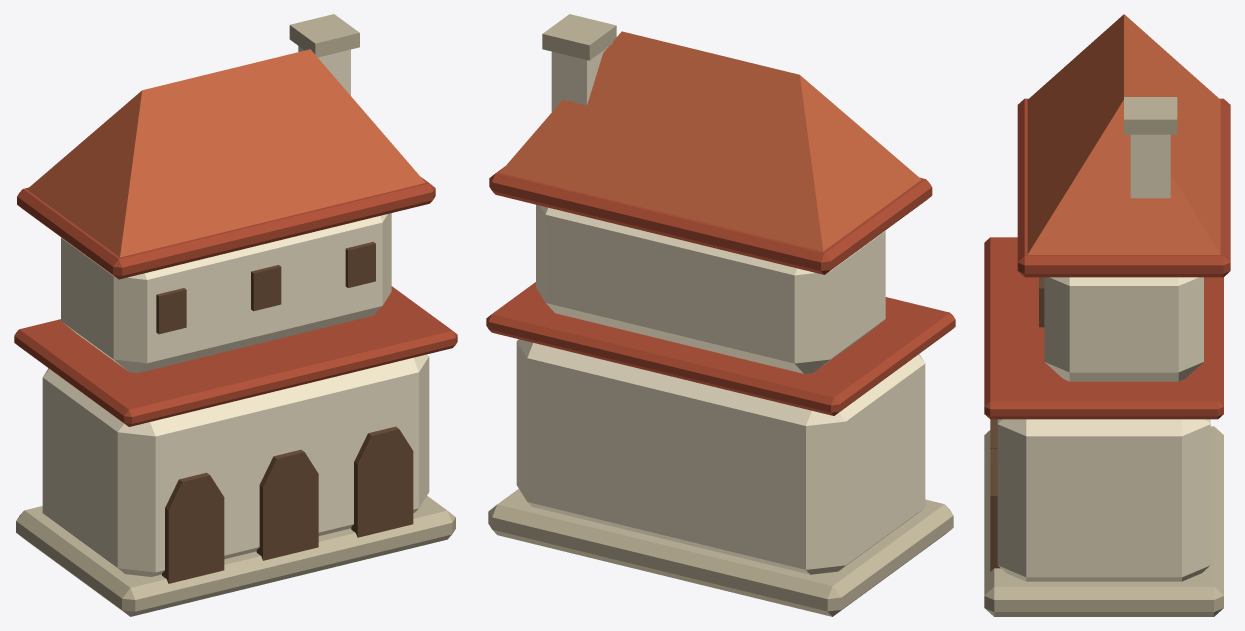
Rendered from ns-house-3f.glb.
3 renders of one model, left to right at view 1: azimuth 30°, elevation 25°; view 2: azimuth 150°, elevation 25°; view 3: azimuth 270°, elevation 25°, orthographic. The views are drawn at different scales.
Parts seen in each view (by area): view 1: Cube; view 2: Cube; view 3: Cube.
Boxes of the visible parts, box(x1,y1,x2,y2) form: Cube: box(14, 14, 457, 616); Cube: box(486, 14, 955, 616); Cube: box(984, 14, 1230, 616).
Bounding box in the file's own units: 0.6 × 0.8025 × 0.37.
